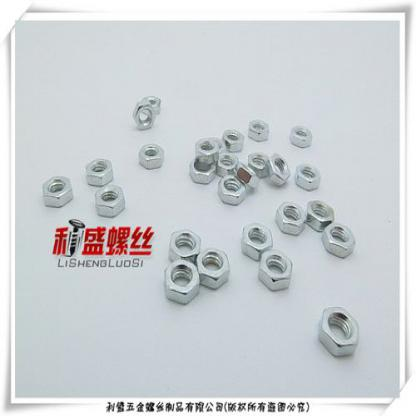FOD: (315, 305, 362, 359), (161, 259, 202, 302), (257, 251, 295, 292), (196, 246, 232, 289), (323, 223, 355, 260), (94, 182, 125, 219), (275, 202, 306, 236), (43, 173, 72, 208), (292, 162, 324, 190), (136, 140, 165, 170), (85, 156, 112, 187), (286, 126, 312, 146)
